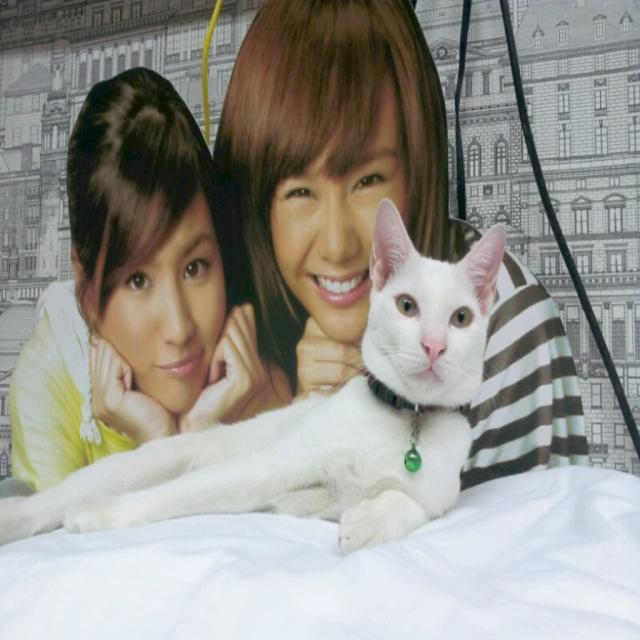Cat: (0, 195, 502, 556)
